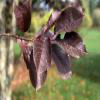Cherry leaf: (53, 5, 87, 35), (55, 31, 90, 60), (49, 41, 74, 80), (11, 1, 36, 36), (34, 34, 53, 72)
